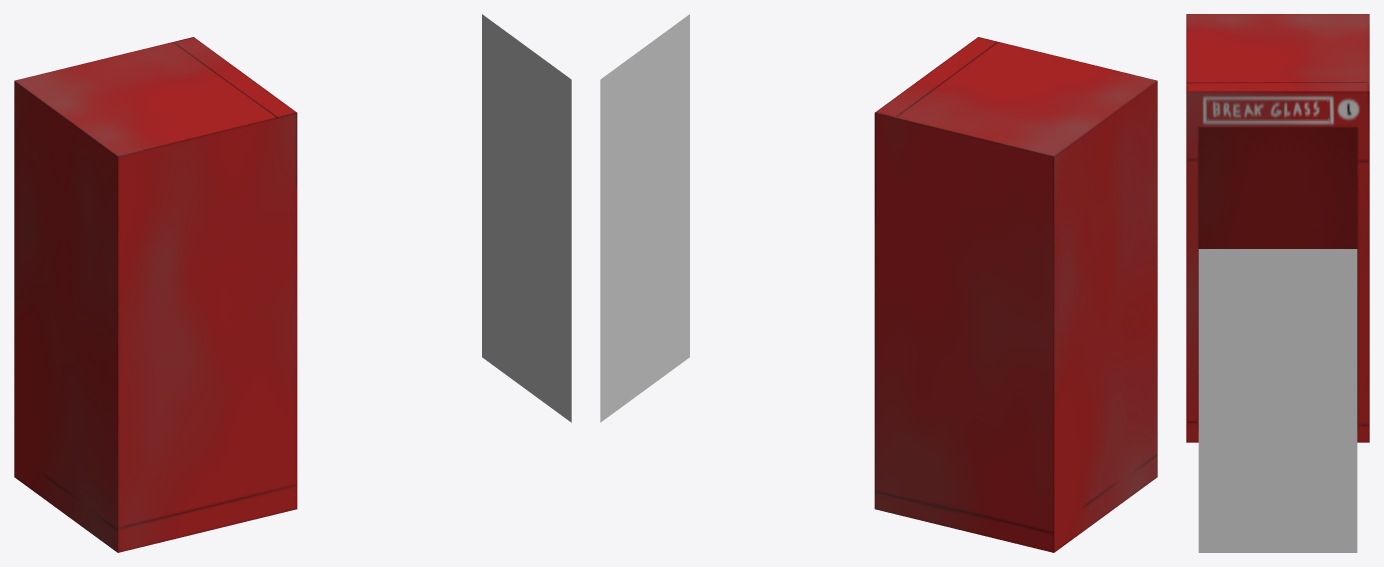
The model's file is fire box.fbx.
3 views of the same model, side by side, from view 1: azimuth 30°, elevation 25°; view 2: azimuth 150°, elevation 25°; view 3: azimuth 270°, elevation 25° (orthographic). The views are drawn at different scales.
Visible parts, largest first — view 1: Cube.022, Cube.023; view 2: Cube.022, Cube.023; view 3: Cube.023, Cube.022.
Boxes of the visible parts, <box> form: Cube.022: <box>14,37,297,552</box>; Cube.023: <box>482,14,571,422</box>; Cube.022: <box>874,37,1157,552</box>; Cube.023: <box>600,14,689,422</box>; Cube.023: <box>1198,249,1357,552</box>; Cube.022: <box>1186,14,1369,442</box>.
Bounding box in the file's own units: 204 × 168 × 79.55.
Materials: 1 (1 with a texture image).
